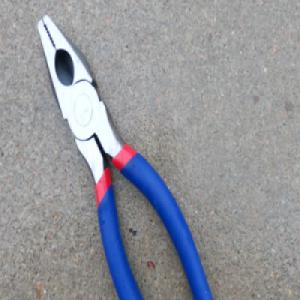Pliers: (38, 16, 214, 300)
